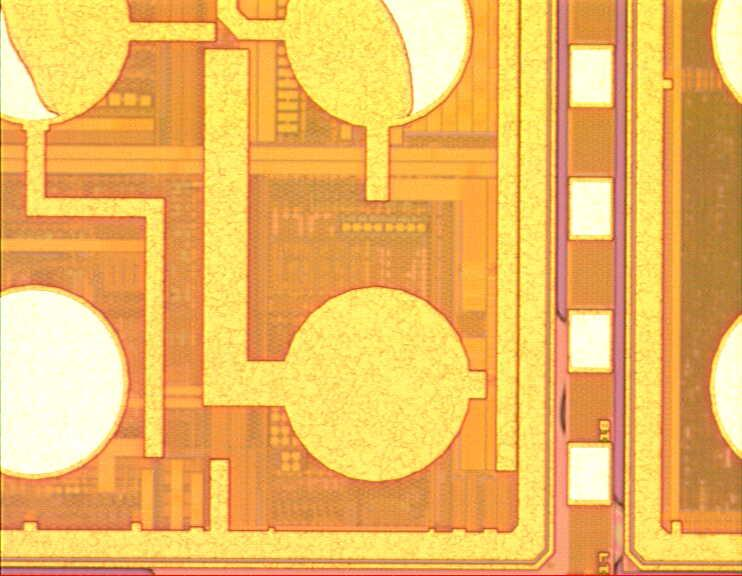COATING BAD: (1, 1, 413, 127)
